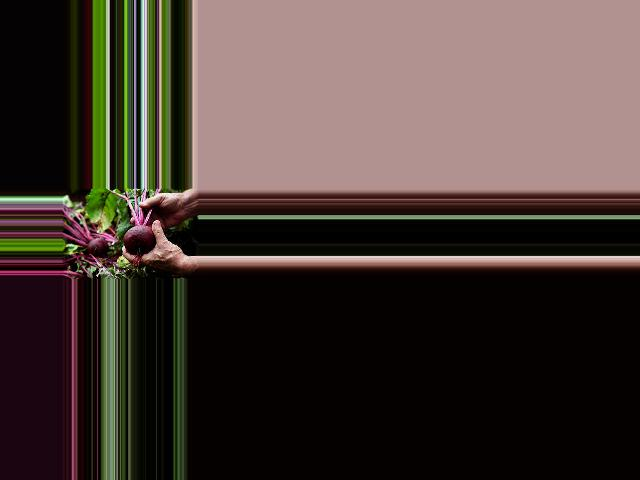beet: (105, 188, 157, 255)
